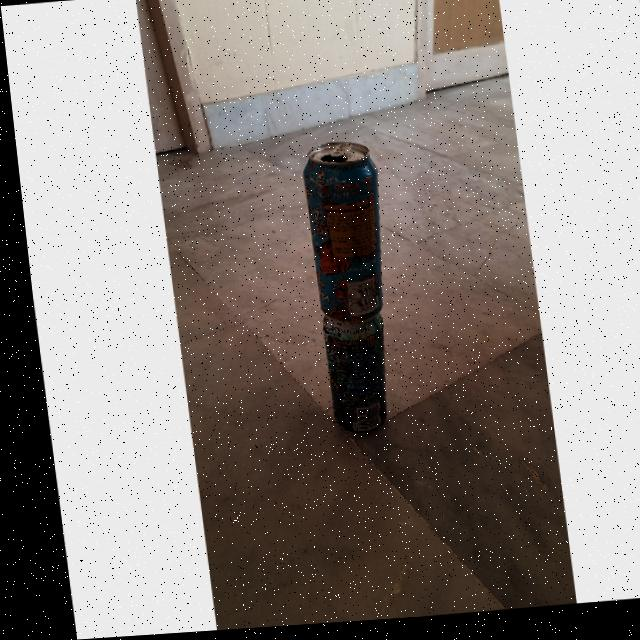Monster Aussie Lemonade: (311, 321, 385, 436)
Monster Mango Loco: (294, 152, 386, 321)
